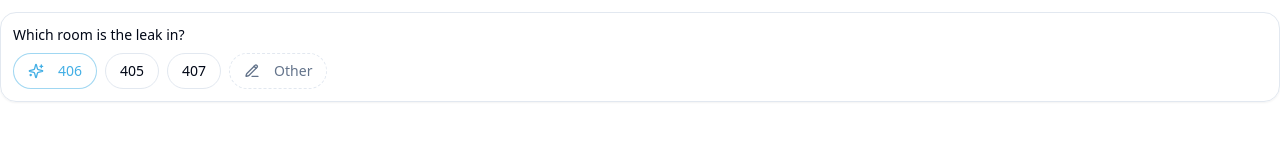
ClarifyingQuestionCard › answers a single question with one tap
Step 1. Click the button "406" → (55, 71), box left=13, top=53, right=97, bottom=89
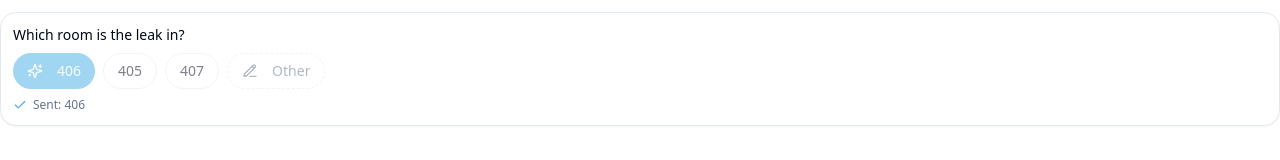
Expected: the message reads "Sent: 406", left=13, top=96, right=85, bottom=113
Expected: the button "405" is disabled, left=103, top=53, right=157, bottom=89
